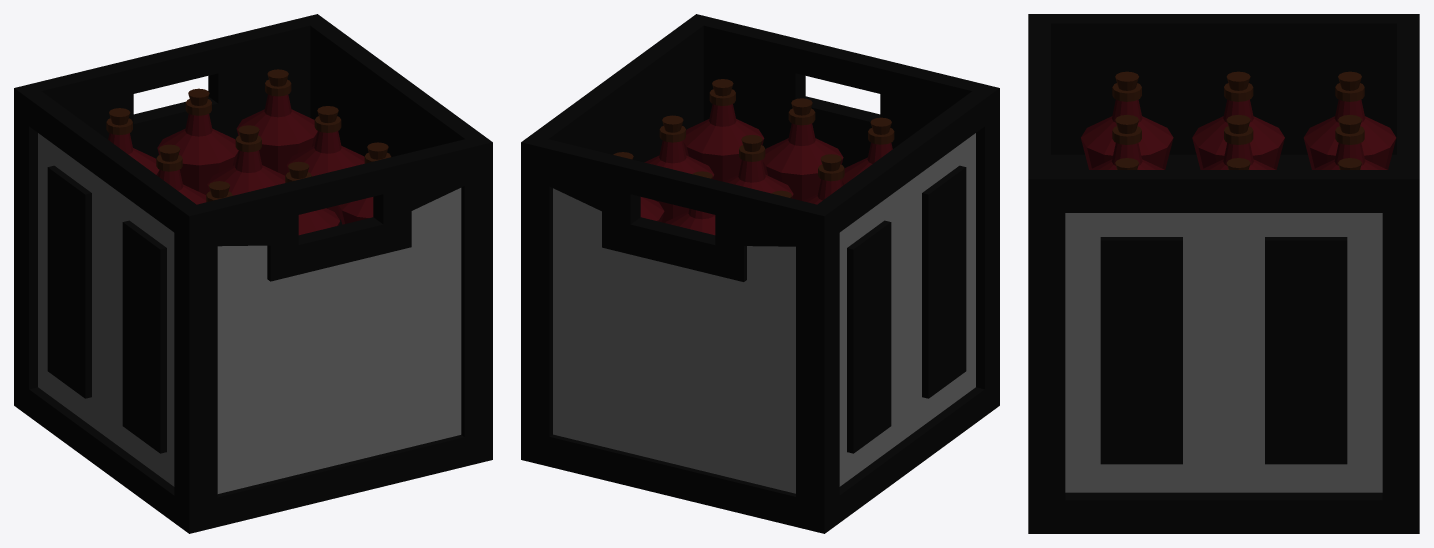
The model's file is gatewayRum.glb.
3 views of the same model, side by side, from view 1: azimuth 30°, elevation 25°; view 2: azimuth 150°, elevation 25°; view 3: azimuth 270°, elevation 25° (orthographic). The views are drawn at different scales.
Visible parts, largest first — view 1: RumBox; view 2: RumBox; view 3: RumBox.
Part boxes in pixels (box(x1,y1,x2,y2)): RumBox: box(14, 14, 492, 533); RumBox: box(521, 14, 999, 533); RumBox: box(1028, 14, 1419, 533).
Size of the model in its own units: 1.25 by 1.25 by 1.25.
